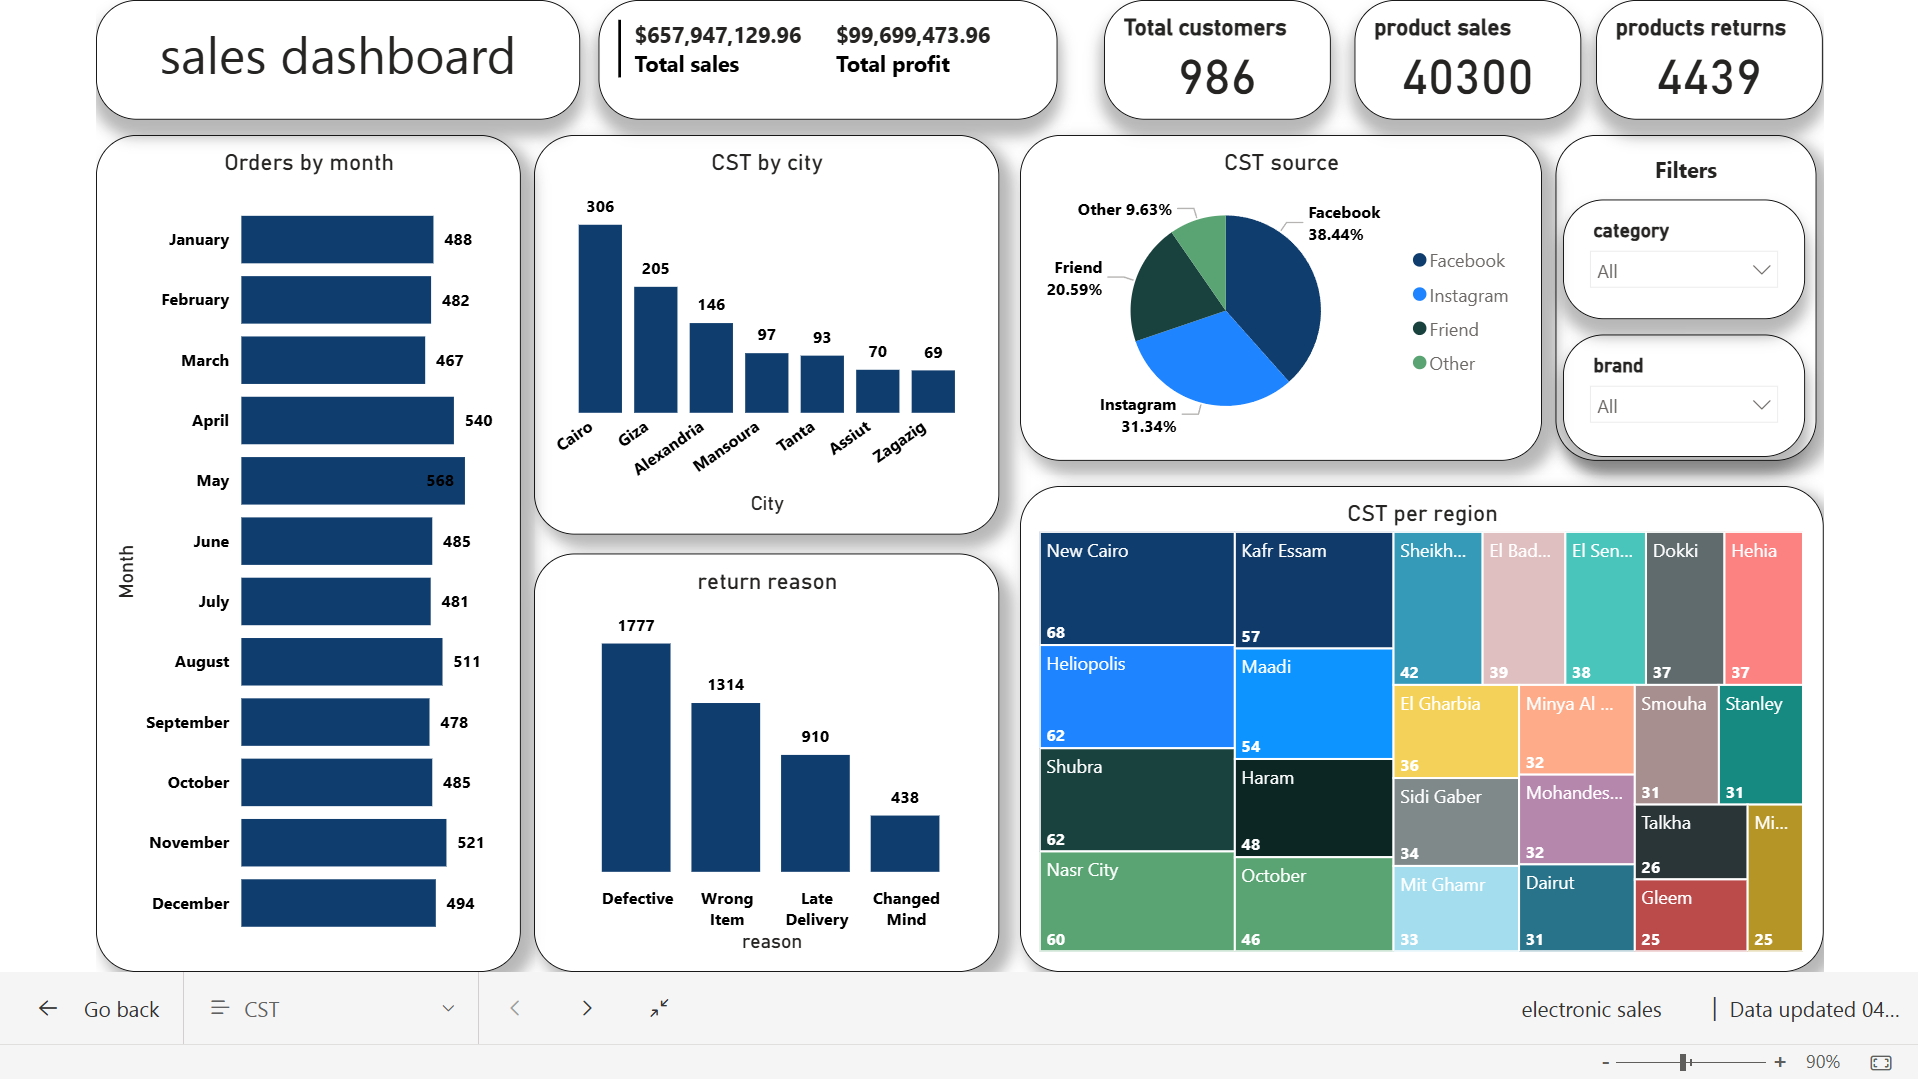

What the dashboard file says about the page in this screenshot:
{"tool":"powerbi","page":{"name":"CST","canvas":[1280,720],"ordinal":0},"visuals":[{"type":"textbox","box":[1081.6,99.7,193.2,241.6],"z":0},{"type":"multiRowCard","fields":{"Values":["Sum(Orders.Sales)","Sum(Orders.profit)"]},"box":[372.5,0,339.7,88.8],"z":1000},{"type":"card","title":"Total customers","fields":{"Values":["Count(Customers.CST_ID)"]},"box":[746.5,0,168.3,88.8],"z":2000},{"type":"card","title":"products returns","fields":{"Values":["CountNonNull(Returns.product_ID)"]},"box":[1111.2,0,168.3,88.8],"z":3000},{"type":"card","title":"product sales","fields":{"Values":["Sum(Orders.Quantity)"]},"box":[931.9,0,168.3,88.8],"z":4000},{"type":"slicer","fields":{"Values":["Products.brand"]},"box":[1086.2,247.8,179.2,90.4],"z":5000},{"type":"slicer","fields":{"Values":["Products.category"]},"box":[1086.2,148.1,179.2,88.8],"z":6000},{"type":"clusteredColumnChart","title":"CST by city","fields":{"Category":["Customers.City"],"Y":["Count(Customers.CST_ID)"]},"box":[324.2,99.7,344.4,296.1],"z":7000},{"type":"clusteredBarChart","title":"Orders by month","fields":{"Category":["Orders.order_date.Variation.Date Hierarchy.Month"],"Y":["Count(Orders.order_ID)"]},"box":[0,99.7,314.8,620.3],"z":8000},{"type":"clusteredColumnChart","title":"return reason","fields":{"Category":["Returns.reason"],"Y":["CountNonNull(Returns.reason)"]},"box":[324.2,409.9,344.4,310.1],"z":9000},{"type":"pieChart","title":"CST source","fields":{"Category":["Customers.source"],"Y":["CountNonNull(Customers.source)"]},"box":[684.2,99.7,386.5,241.6],"z":10000},{"type":"treemap","title":"CST per region","fields":{"Group":["Customers.region"],"Values":["CountNonNull(Customers.CST_ID)"]},"box":[684.2,360,595.3,360],"z":11000},{"type":"textbox","box":[0,0,358.6,88.6],"z":12000}]}

Visuals, with their boxes on the page's 1280x720 design canvas (x1, y1, x2, y2). These are canvas units, not pixel positions in the 1918x1079 screenshot, which may show the page scaled, cropped or inside an application window:
textbox: bbox=(1082, 100, 1275, 341)
multiRowCard - Sum(Orders.Sales) x Sum(Orders.profit): bbox=(372, 0, 712, 89)
"Total customers" card: bbox=(746, 0, 915, 89)
"products returns" card: bbox=(1111, 0, 1280, 89)
"product sales" card: bbox=(932, 0, 1100, 89)
slicer - Products.brand: bbox=(1086, 248, 1265, 338)
slicer - Products.category: bbox=(1086, 148, 1265, 237)
"CST by city" clusteredColumnChart: bbox=(324, 100, 669, 396)
"Orders by month" clusteredBarChart: bbox=(0, 100, 315, 720)
"return reason" clusteredColumnChart: bbox=(324, 410, 669, 720)
"CST source" pieChart: bbox=(684, 100, 1071, 341)
"CST per region" treemap: bbox=(684, 360, 1280, 720)
textbox: bbox=(0, 0, 359, 89)
